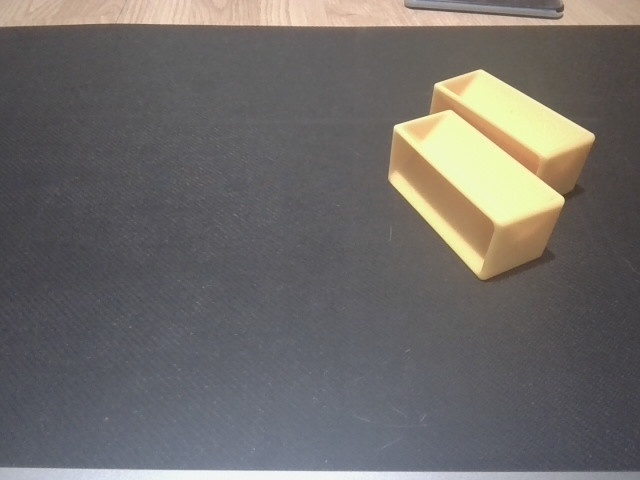YellowSample: (382, 107, 567, 281), (426, 65, 599, 196)
